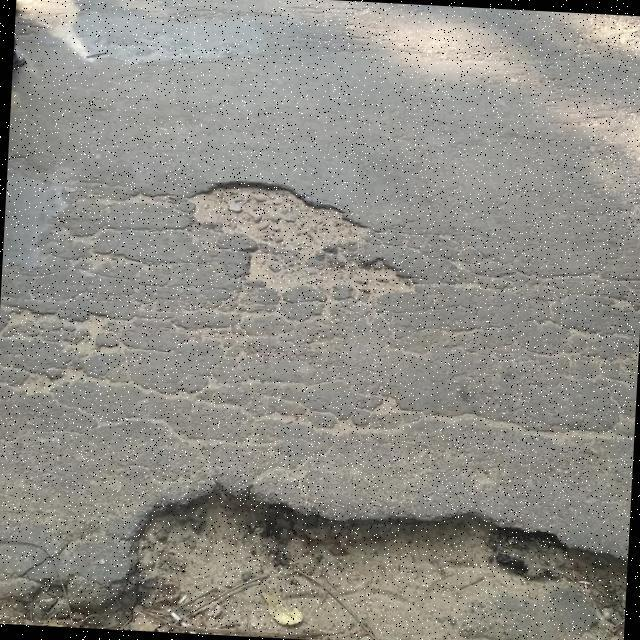Pothole: (0, 488, 626, 640), (192, 183, 410, 289)
